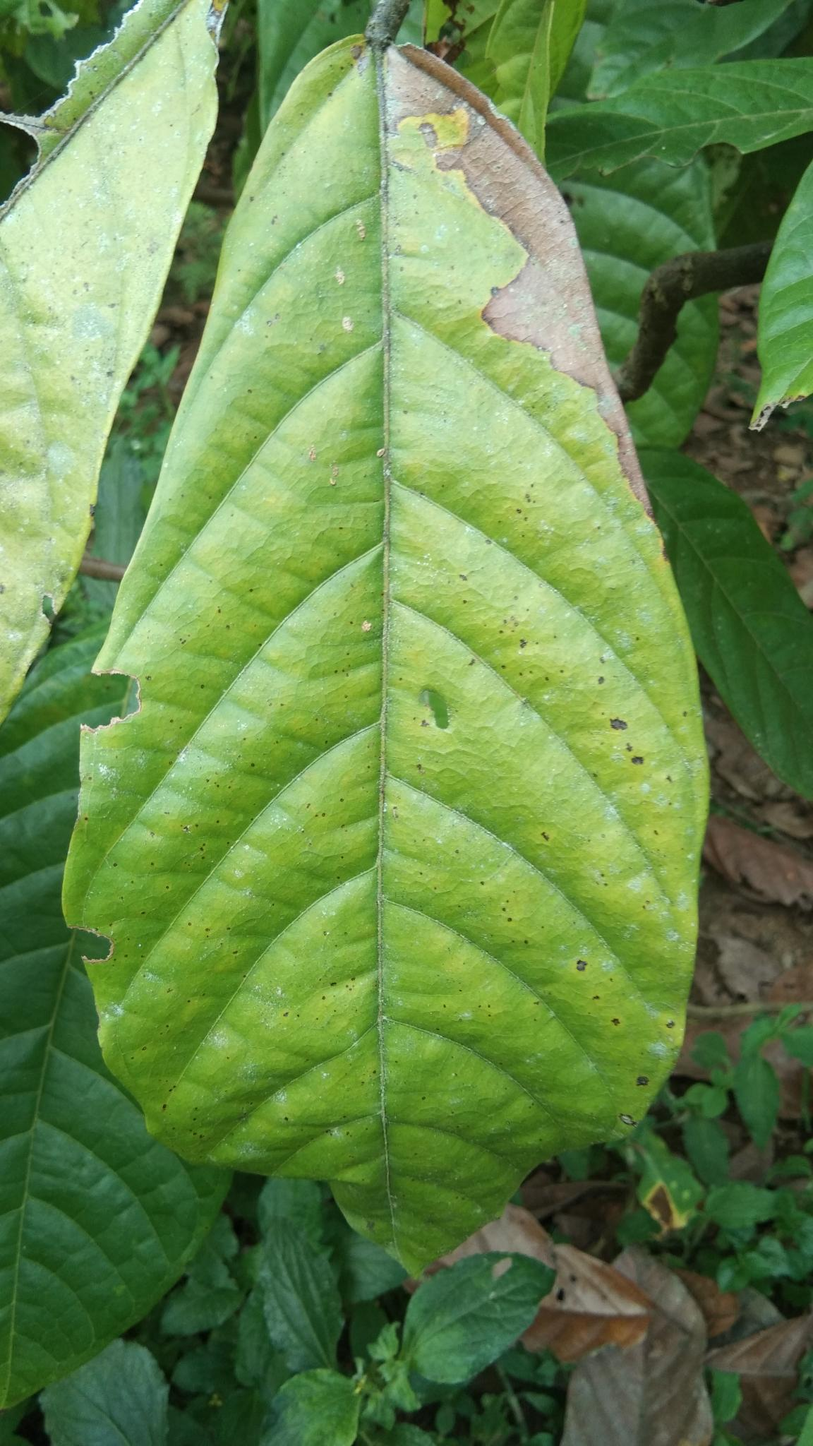Potasio: (47, 36, 722, 1300)
